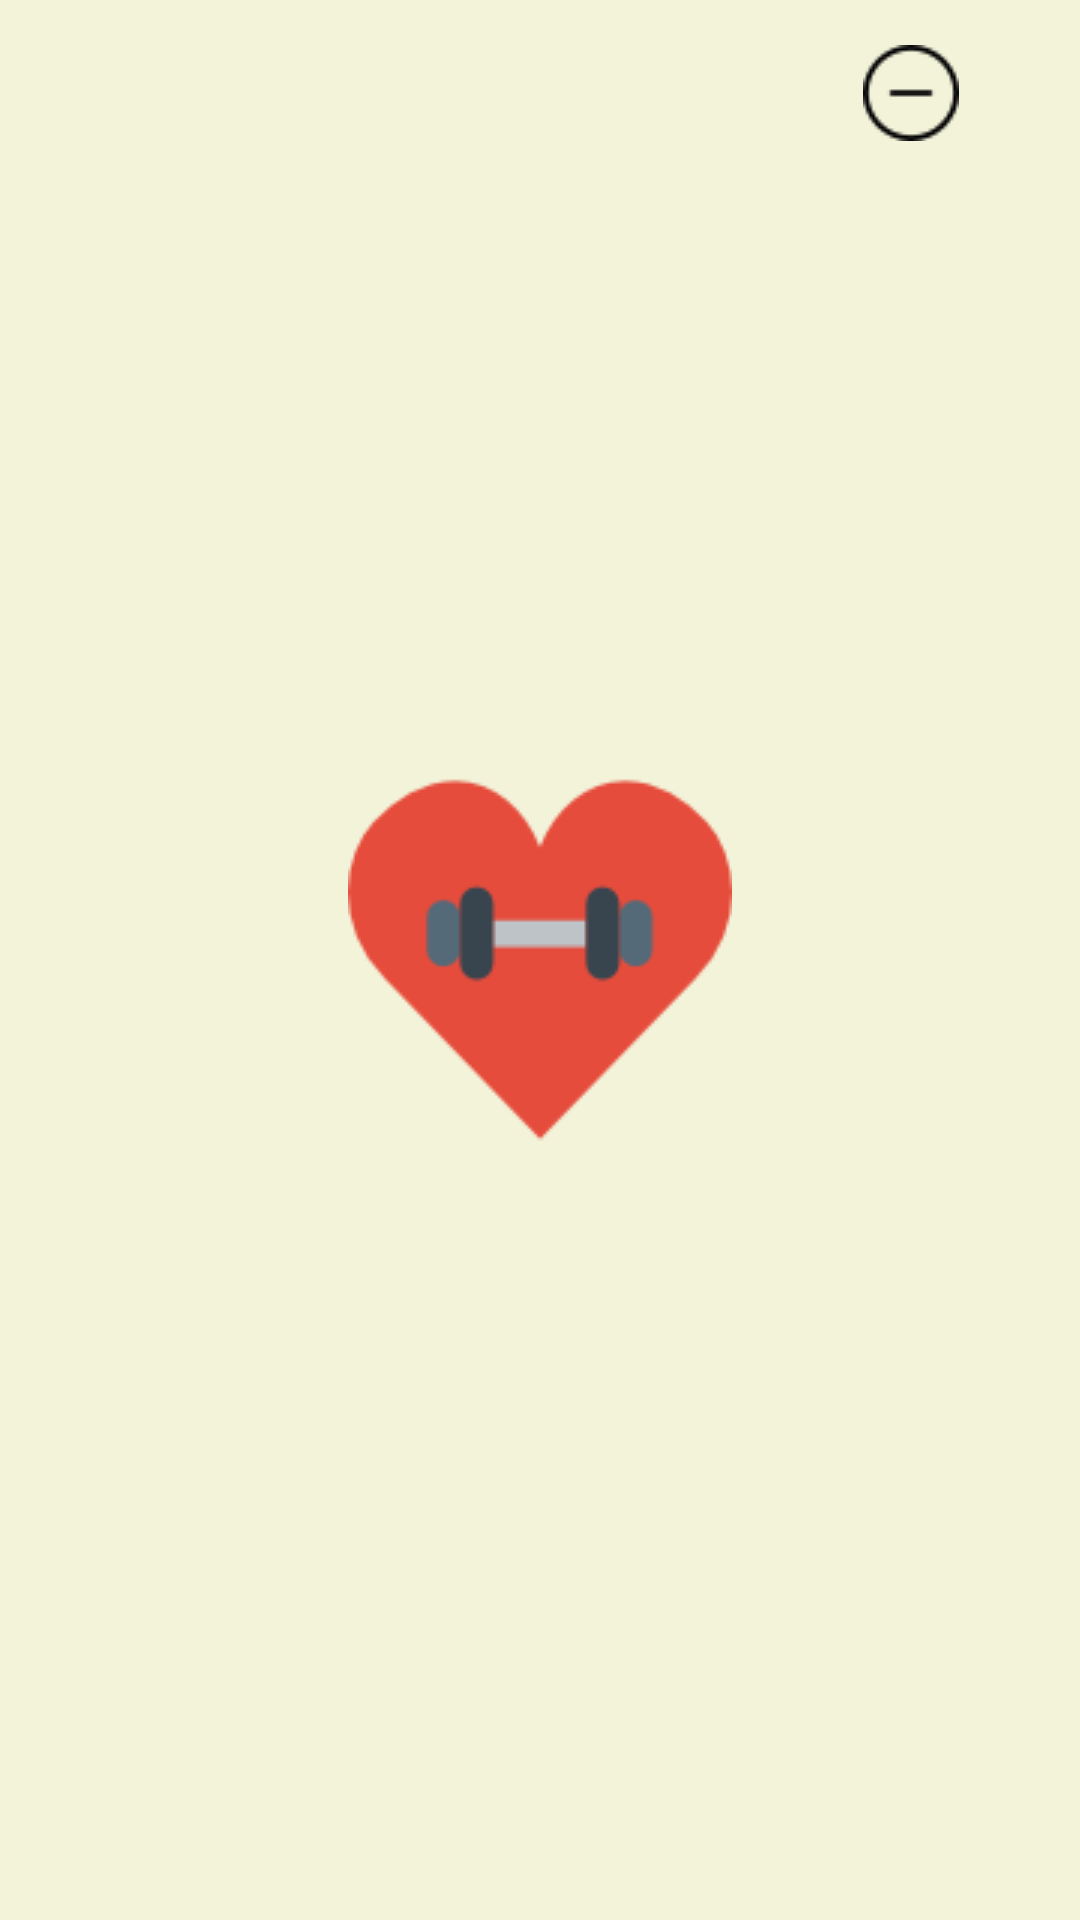

Icon click points for this 1080px×1920px phone screenshot, format (x,y):
minus: (911,93)
